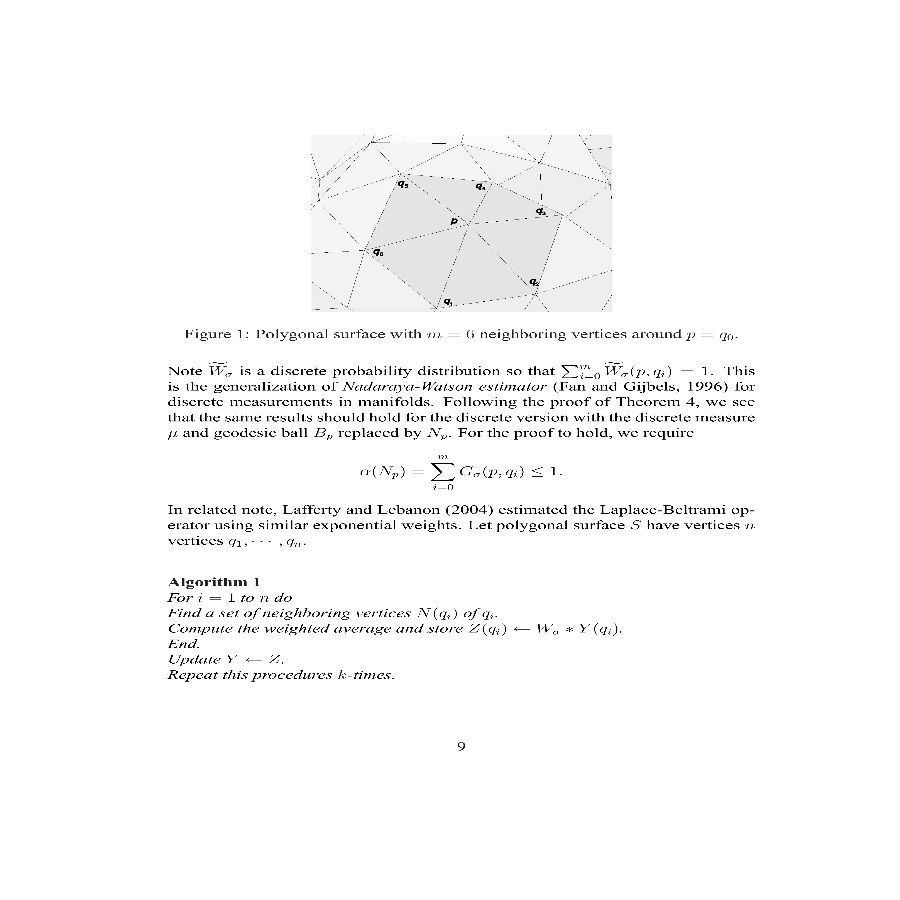eq: (354, 453, 567, 493)
